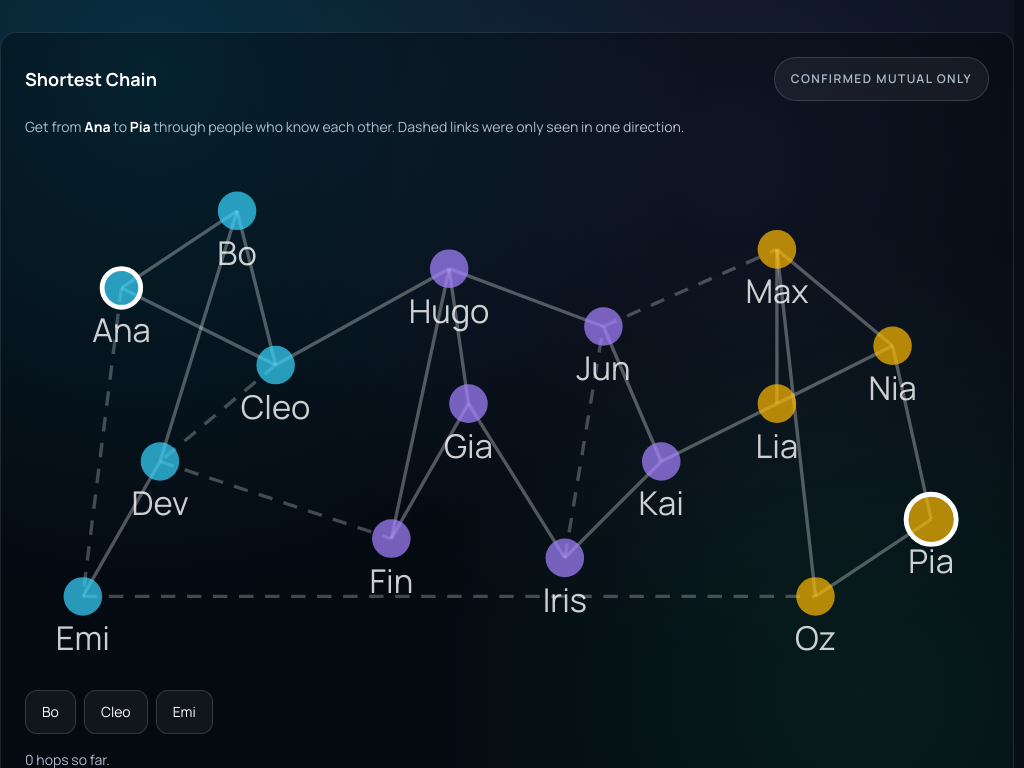
SmallWorldGame › hides one-way links when only confirmed mutual links count
Click the button with test id "small-world-mutual". click: point(881, 79)
box: [774,57,989,101]
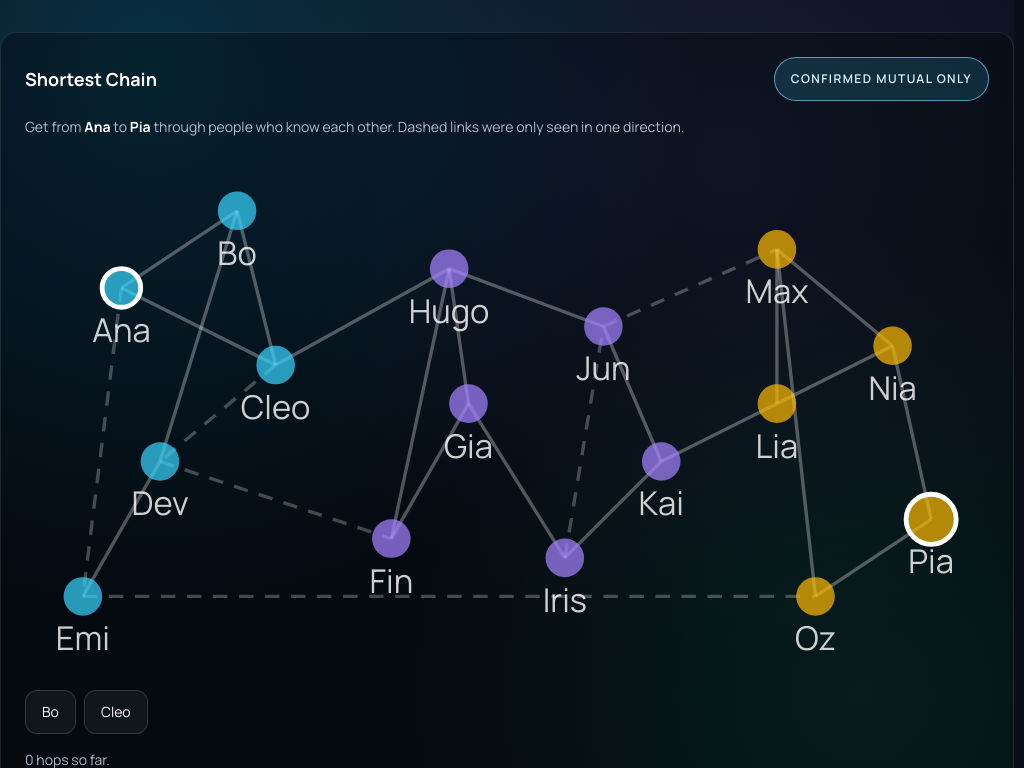
Expected: the button with test id "small-world-choose-2" is shown, [84,690,148,734]
Expected: the button with test id "small-world-choose-4" is gone
